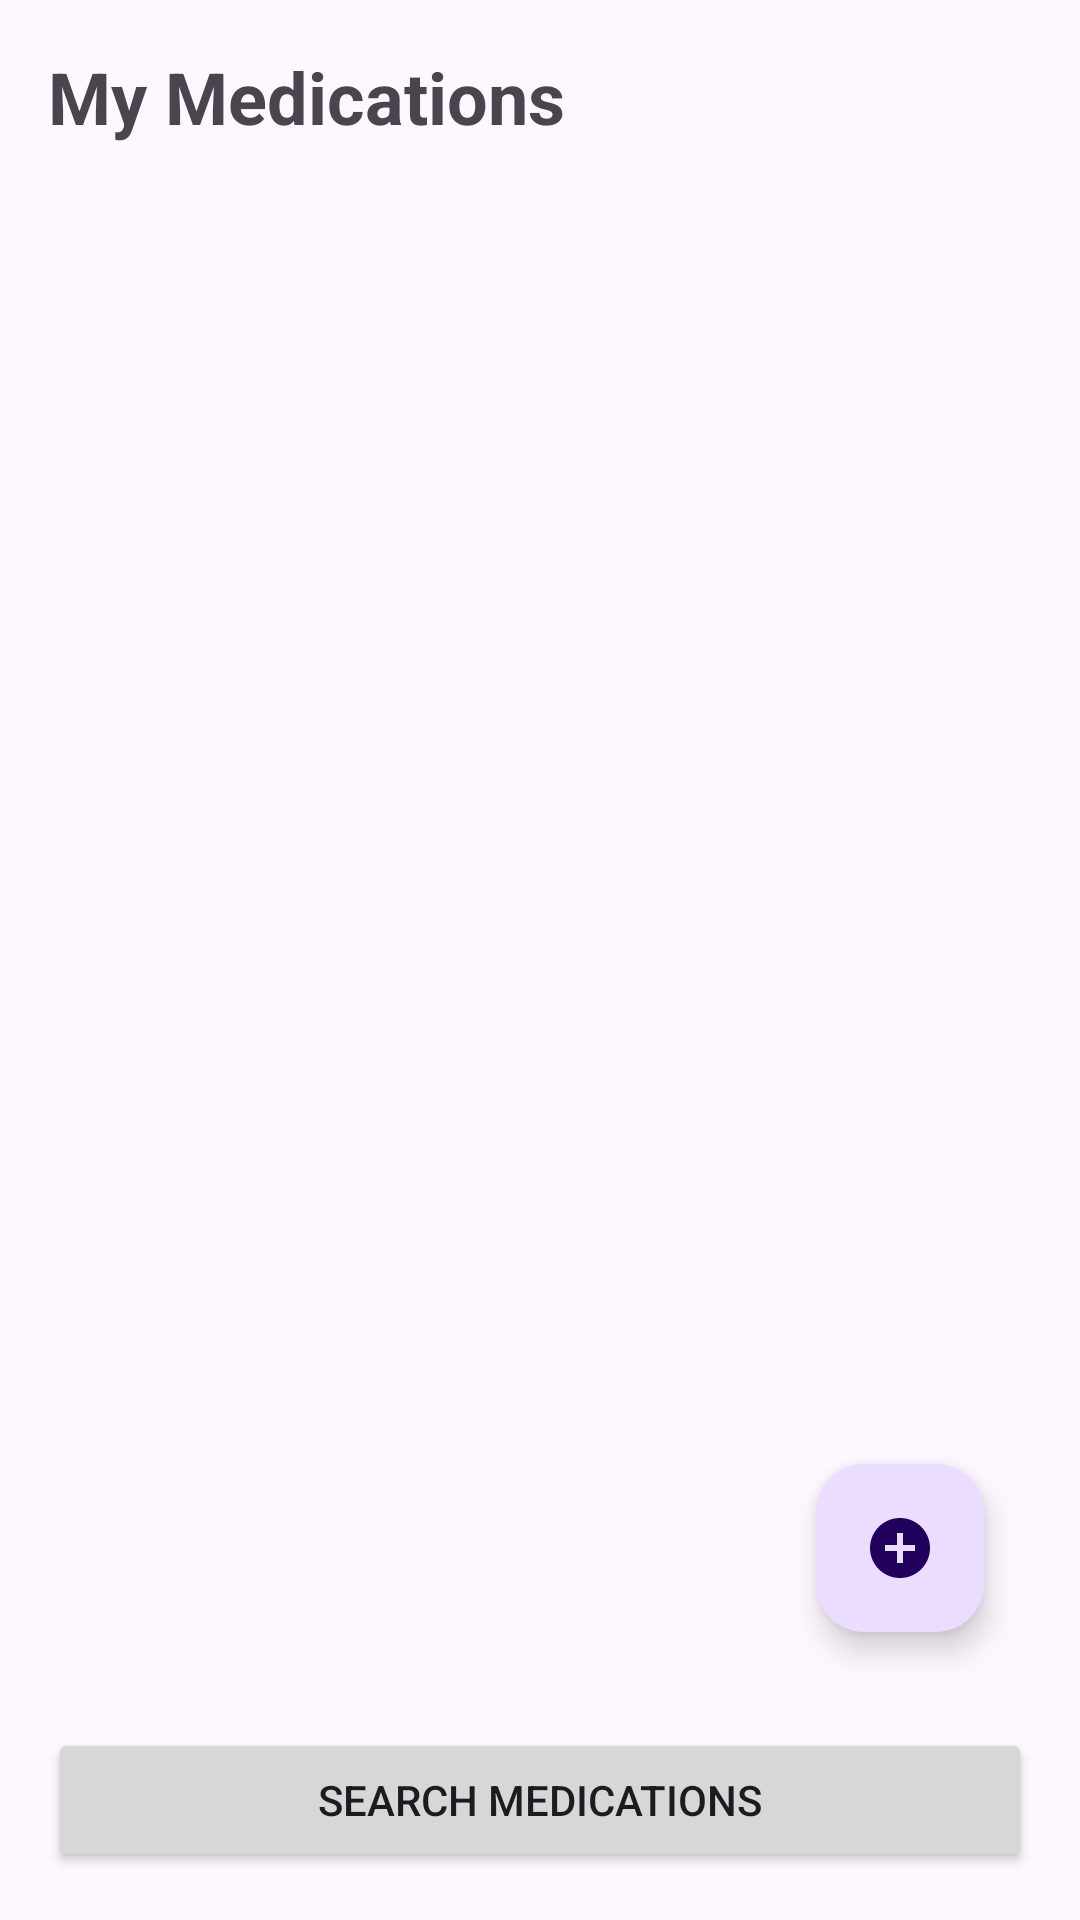

Icon bounding boxes for this 1080px x 1920px phone screenshot, format {"x1": x1, "y1": y1, "x2": x2, "y2": y2}:
add: {"x1": 816, "y1": 1464, "x2": 984, "y2": 1632}
